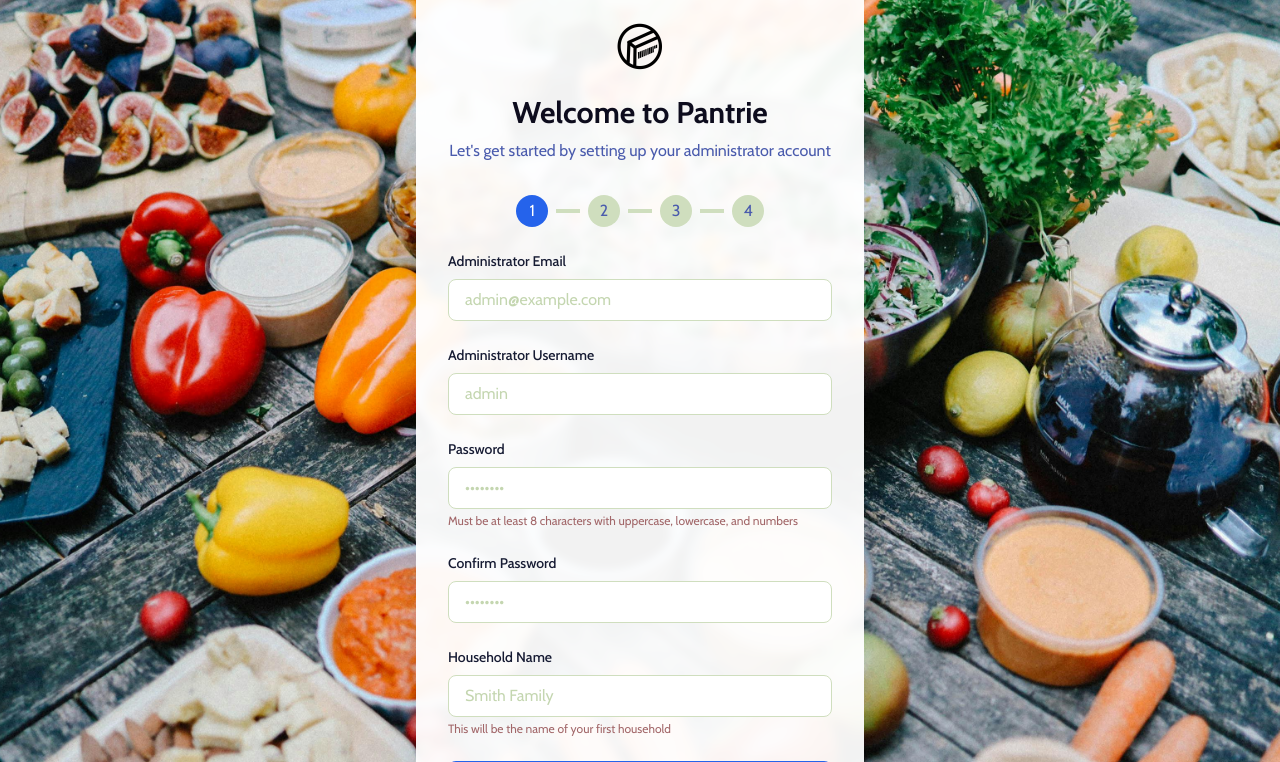
Scenario: SetupPage › rejects invalid admin passwords: {"admin_password":"Password","confirm_password":"Password"}
Step 1. Type "Password" into the password field with id "admin_password" → (640, 488), box left=448, top=467, right=832, bottom=509
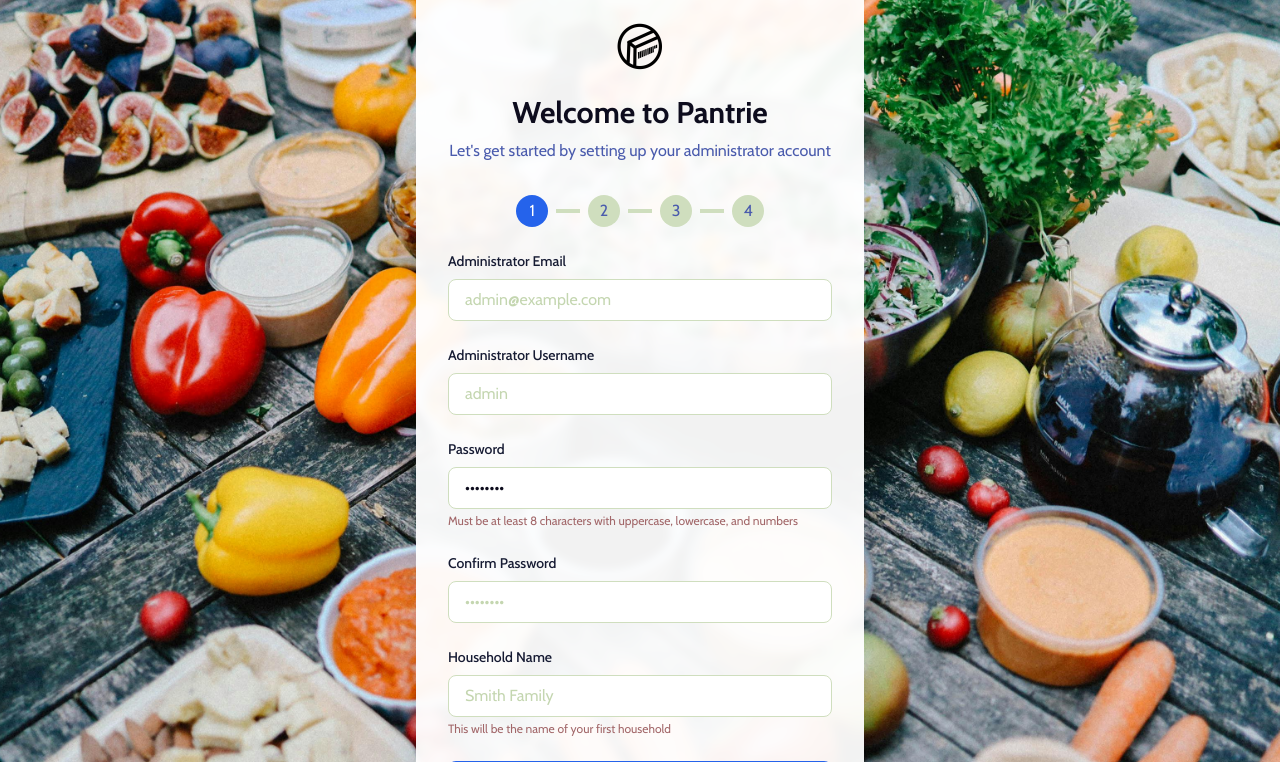
Step 2. Type "Password" into the password field with id "confirm_password" → (640, 602), box left=448, top=581, right=832, bottom=623
(page scrolled)
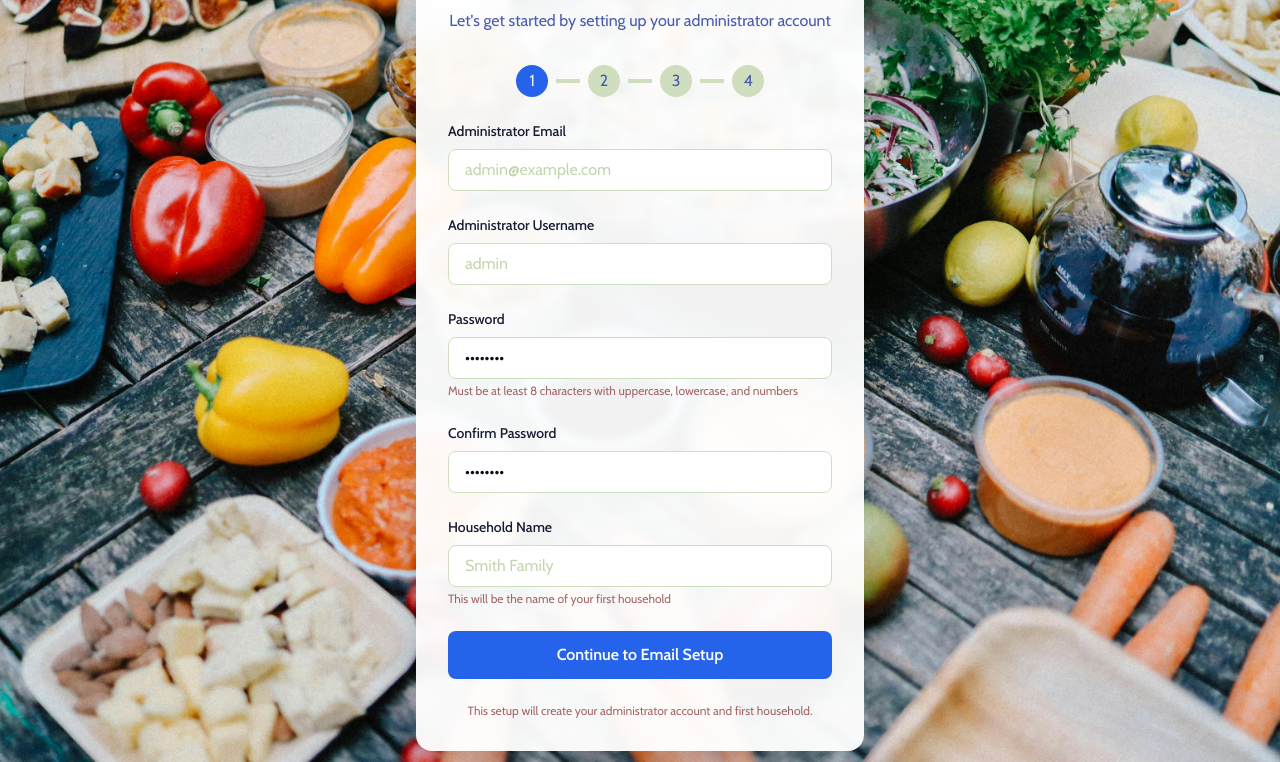
Step 3. Submit the form with id "admin_password", box left=448, top=121, right=832, bottom=679
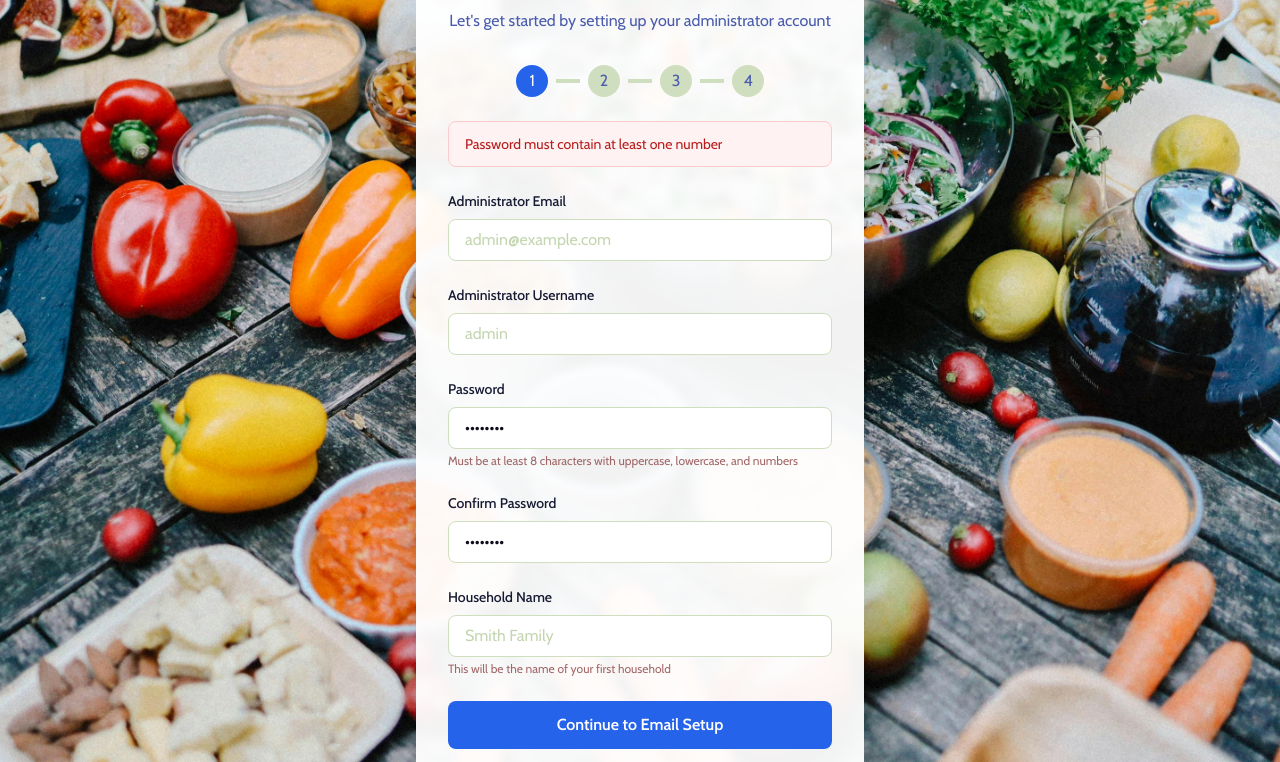
Expected: the text "Password must contain at least one number" is shown, left=465, top=135, right=722, bottom=153
